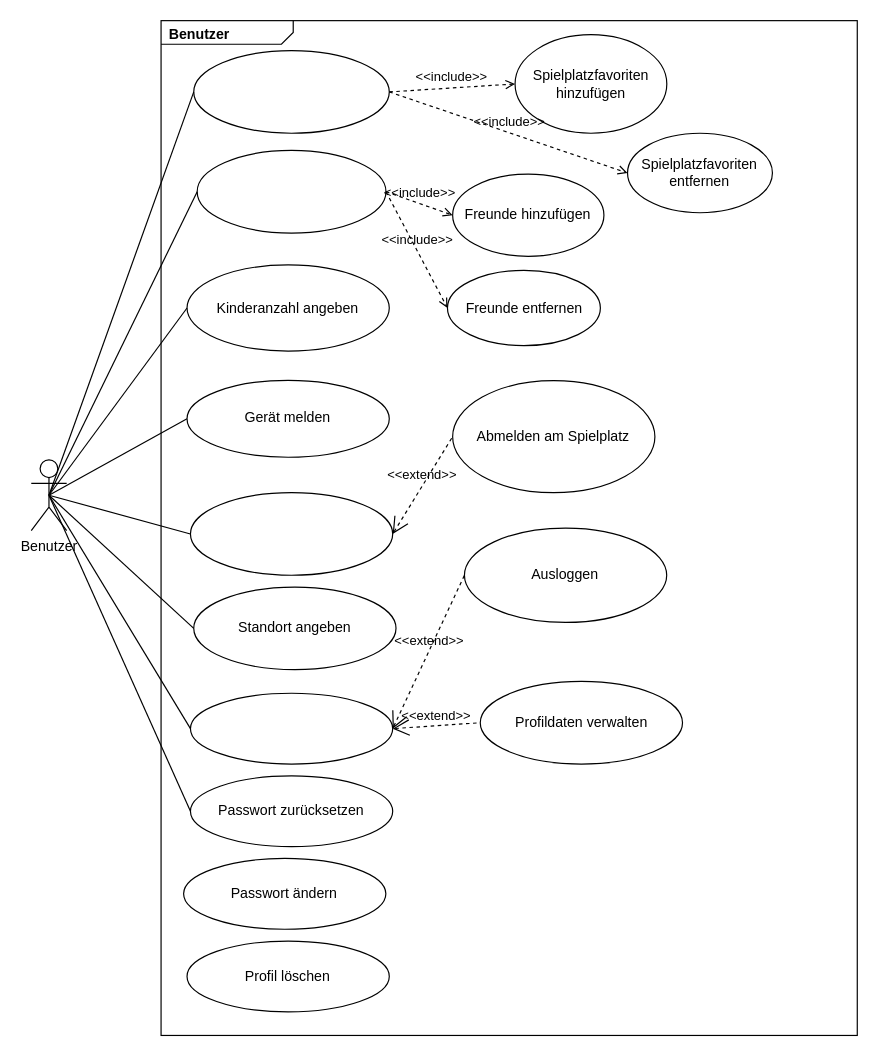
Image size: 878x1056. Some labels were removed from this diagram. The shapes that lost their labels are listed below. From the top down, each one's centre as x and y in pixels, then its label:
At (x=291, y=91): "eigene Spielplatzfavoriten verwalten".
At (x=291, y=191): "eigene Freundesliste verwalten".
At (x=291, y=533): "Anmeldung am Spielplatz".
At (x=291, y=728): "Einloggen".
